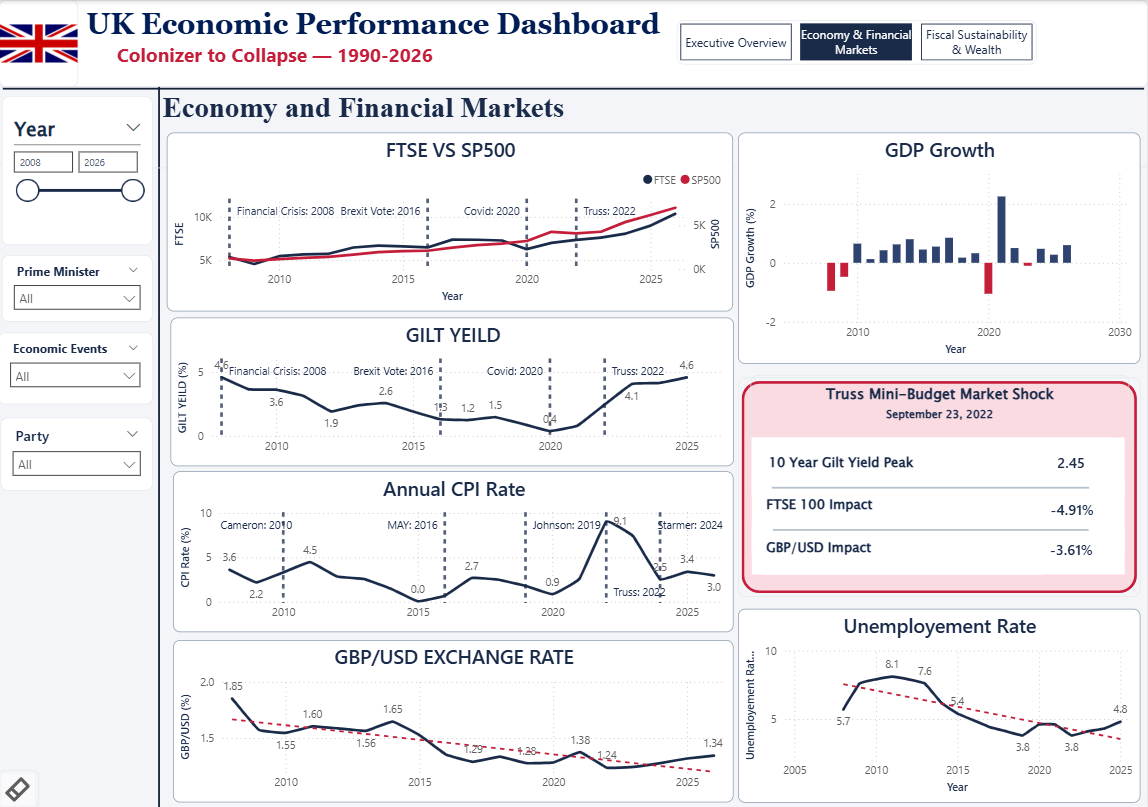

Layout of this report page (visuals, bound fields, positions):
{"tool":"powerbi","page":{"name":"Economy & Financial Markets","canvas":[1280,900],"ordinal":1},"visuals":[{"type":"shape","box":[28.7,96.5,300.1,803.8],"z":0},{"type":"shape","box":[1.5,9,1278.8,177.9],"z":1000},{"type":"slicer","fields":{"Values":["dim_year.year"]},"box":[4.2,106.6,168.3,165.5],"z":2000},{"type":"slicer","fields":{"Values":["uk_decline_db dim_pm.pm_name"]},"box":[4.2,283.3,168.3,74.3],"z":3000},{"type":"slicer","fields":{"Values":["uk_decline_db dim_pm.party"]},"box":[2.8,464.2,169.7,81.3],"z":4000},{"type":"slicer","fields":{"Values":["uk_decline_db dim_event.event_name"]},"box":[0,370.2,172.5,79.9],"z":5000},{"type":"textbox","box":[0,0,1280.3,96.5],"z":6000},{"type":"actionButton","title":"clear","box":[0,856.6,45.2,43.7],"z":7000},{"type":"image","box":[1.5,0,88,97.2],"z":8000},{"type":"pageNavigator","box":[755.2,22.9,400.5,49.5],"z":9000},{"type":"lineChart","title":"FTSE VS SP500","fields":{"Y2":["Avg(uk_decline_db fact_markets_daily.sp500_close)"],"Y":["Avg(uk_decline_db fact_markets_daily.ftse_close)"],"Category":["uk_decline_db dim_date.year"]},"box":[188.5,147.8,630.4,199.1],"z":10000},{"type":"lineChart","title":"GILT YEILD ","fields":{"Y":["Avg(uk_decline_db fact_annual_indicators.gilt_10y_yield_pct)"],"Category":["dim_year.year"]},"box":[191.5,352.9,627.3,165.9],"z":11000},{"type":"lineChart","title":"Annual CPI Rate","fields":{"Y":["Avg(uk_decline_db fact_cpi_monthly.cpi_annual_rate_pct)"],"Category":["dim_year.year"]},"box":[194.5,524.8,624.3,179.5],"z":12000},{"type":"lineChart","title":"GBP/USD EXCHANGE RATE","fields":{"Y":["Avg(uk_decline_db fact_markets_daily.gbpusd_close)"],"Category":["uk_decline_db dim_date.year"]},"box":[194.5,711.8,624.3,181],"z":13000},{"type":"lineChart","title":"Unemployement Rate","fields":{"Y":["Avg(uk_decline_db fact_annual_indicators.unemployment_rate_pct)"],"Category":["dim_year.year"]},"box":[823.4,677.1,447.9,215.7],"z":14000},{"type":"lineClusteredColumnComboChart","title":"GDP Growth","fields":{"Category":["dim_year.year"],"Y":["Avg(uk_decline_db fact_gdp_quarterly.gdp_qoq_growth_pct)"]},"box":[823.4,147.8,447.9,257.9],"z":15000},{"type":"textbox","box":[177.9,96.5,808.3,93.5],"z":16000},{"type":"shape","box":[823.4,420.1,448.2,244],"z":17000,"group":"g1"},{"type":"textbox","box":[837.2,417.7,422,80.9],"z":18000,"group":"g1"},{"type":"cardVisual","title":"FTSE","fields":{"Data":["uk_decline_db fact_markets_daily.Truss Gilt Yield Peak"]},"box":[838.2,487.6,414.9,65],"z":19000,"group":"g1"},{"type":"cardVisual","fields":{"Data":["uk_decline_db fact_markets_daily.Truss FTSE Change Pct"]},"box":[838.2,532.9,414.9,84.6],"z":20000,"group":"g1"},{"type":"cardVisual","fields":{"Data":["uk_decline_db fact_markets_daily.Truss GBP Change Pct"]},"box":[838.2,585.6,414.9,53.9],"z":21000,"group":"g1"},{"type":"textbox","box":[853,499.5,274.5,43.7],"z":22000,"group":"g1"},{"type":"textbox","box":[850.3,546.4,320,49],"z":23000,"group":"g1"},{"type":"textbox","box":[850.3,594.2,311.9,45.4],"z":24000,"group":"g1"},{"type":"shape","box":[860.4,503.5,353.3,78.4],"z":25000,"group":"g1"},{"type":"shape","box":[862,555.3,351.4,69.4],"z":26000,"group":"g1"},{"type":"group","id":"g1","title":"Group 1","box":[823.4,417.7,448.2,246.4],"z":26001}]}

Visuals, with their boxes in screenshot pixels (x1, y1, x2, y2), scaled from the page's 1280x900 canvas onto the 1148x807 screenshot:
shape: box(26, 87, 295, 806)
shape: box(1, 8, 1147, 168)
slicer - dim_year.year: box(4, 96, 155, 244)
slicer - uk_decline_db dim_pm.pm_name: box(4, 254, 155, 321)
slicer - uk_decline_db dim_pm.party: box(3, 416, 155, 489)
slicer - uk_decline_db dim_event.event_name: box(0, 332, 155, 404)
textbox: box(0, 0, 1147, 87)
"clear" actionButton: box(0, 768, 41, 806)
image: box(1, 0, 80, 87)
pageNavigator: box(677, 21, 1037, 65)
"FTSE VS SP500" lineChart: box(169, 133, 734, 311)
"GILT YEILD " lineChart: box(172, 316, 734, 465)
"Annual CPI Rate" lineChart: box(174, 471, 734, 632)
"GBP/USD EXCHANGE RATE" lineChart: box(174, 638, 734, 801)
"Unemployement Rate" lineChart: box(738, 607, 1140, 801)
"GDP Growth" lineClusteredColumnComboChart: box(738, 133, 1140, 364)
textbox: box(160, 87, 884, 170)
shape: box(738, 377, 1140, 595)
textbox: box(751, 375, 1129, 447)
"FTSE" cardVisual: box(752, 437, 1124, 495)
cardVisual - uk_decline_db fact_markets_daily.Truss FTSE Change Pct: box(752, 478, 1124, 554)
cardVisual - uk_decline_db fact_markets_daily.Truss GBP Change Pct: box(752, 525, 1124, 573)
textbox: box(765, 448, 1011, 487)
textbox: box(763, 490, 1050, 534)
textbox: box(763, 533, 1042, 574)
shape: box(772, 451, 1089, 522)
shape: box(773, 498, 1088, 560)
"Group 1" group: box(738, 375, 1140, 595)
